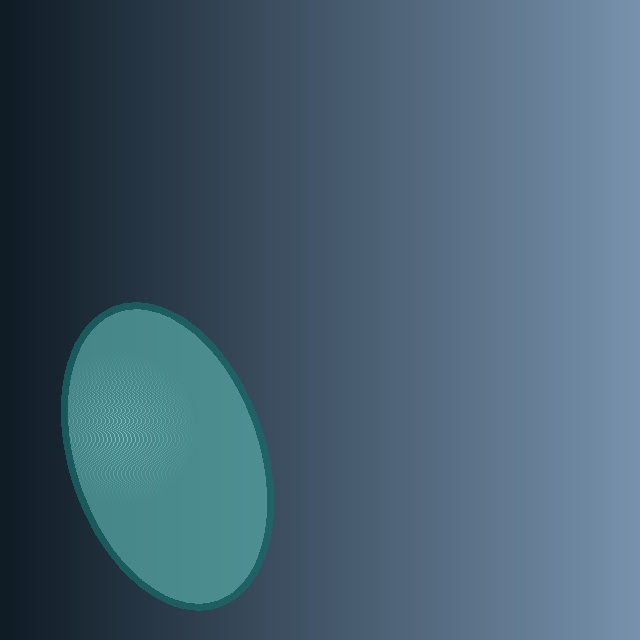lens: (64, 306, 270, 606)
